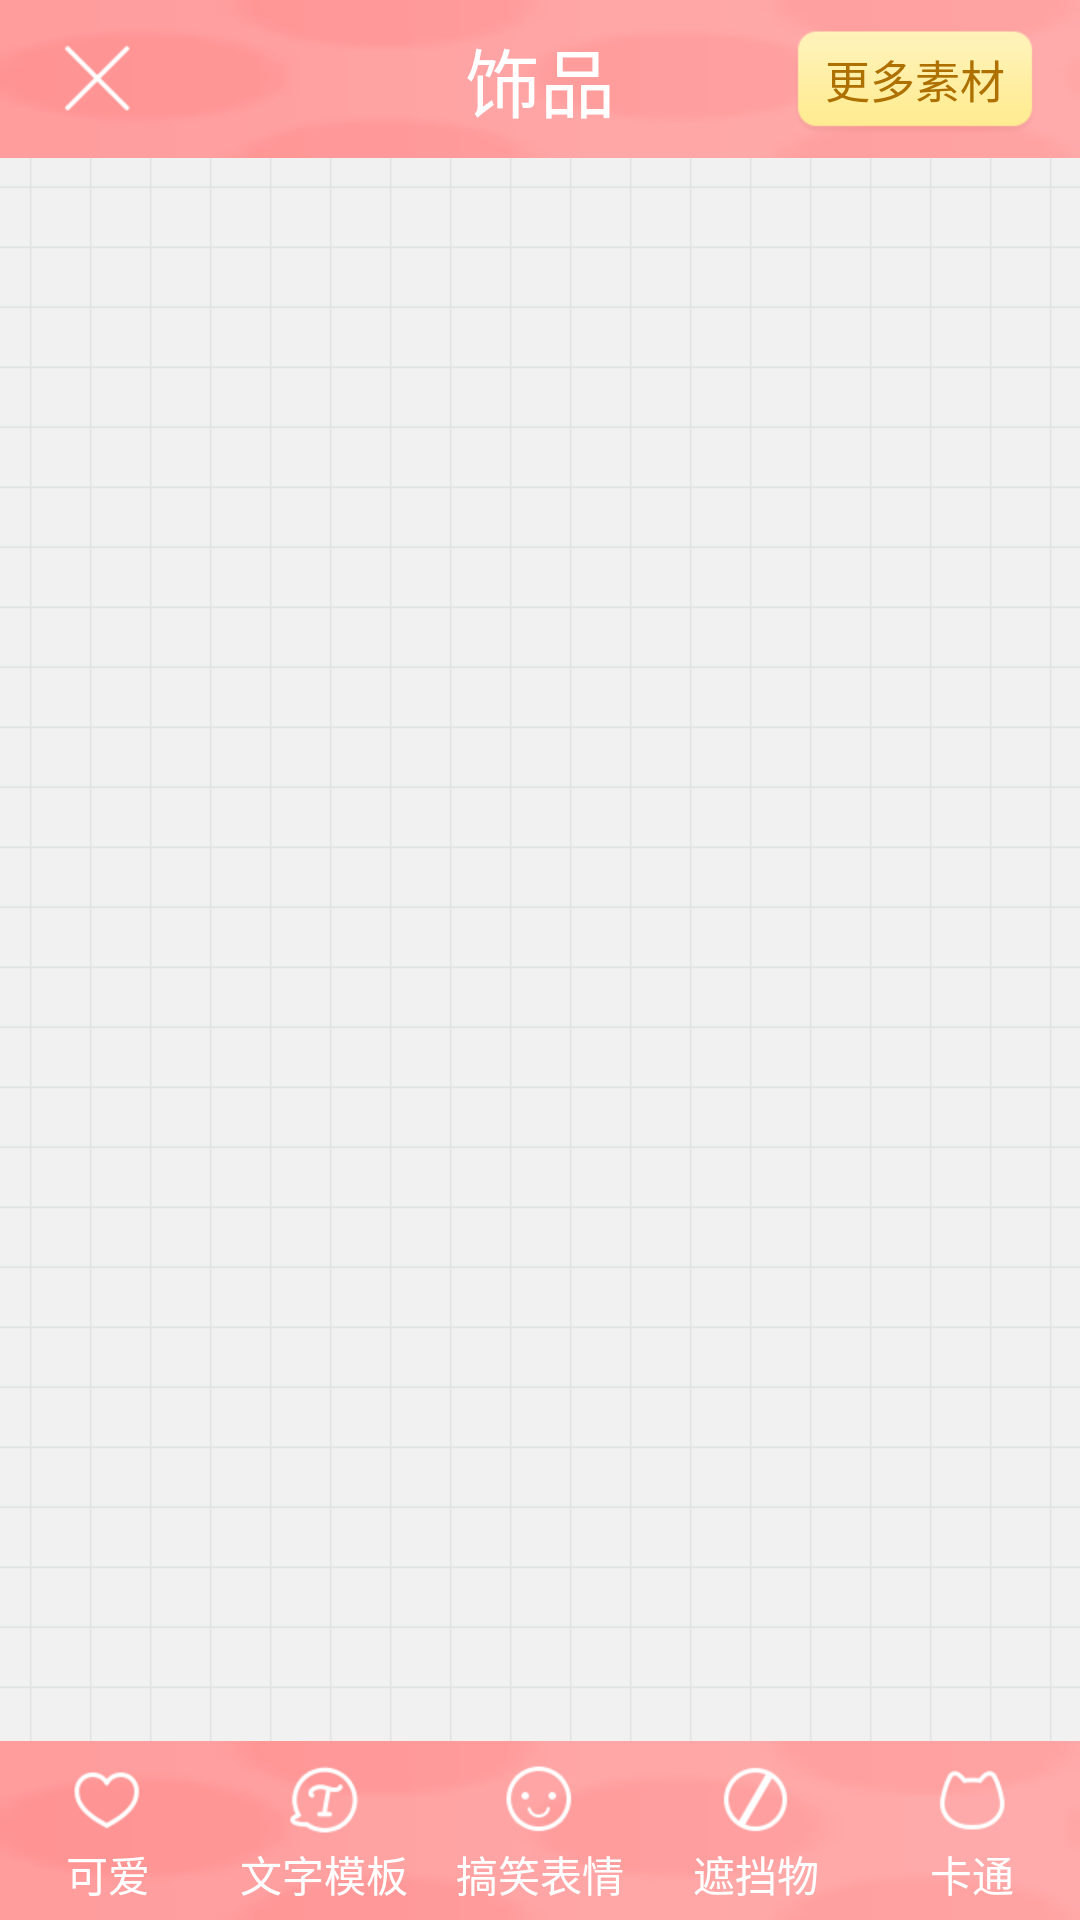

Locate icon controls on the screen. Image size 1080 × 1920, boxes as (x1, y1, x2, y2).
cancel: (47, 38, 135, 114)
